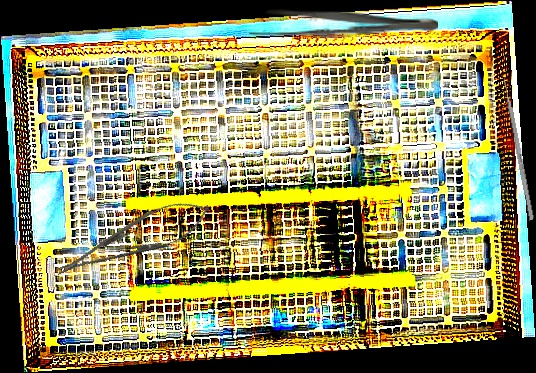Dressing Forceps: (249, 9, 438, 40)
Needle Holder: (48, 188, 217, 291)
Pusher: (499, 66, 535, 221)
